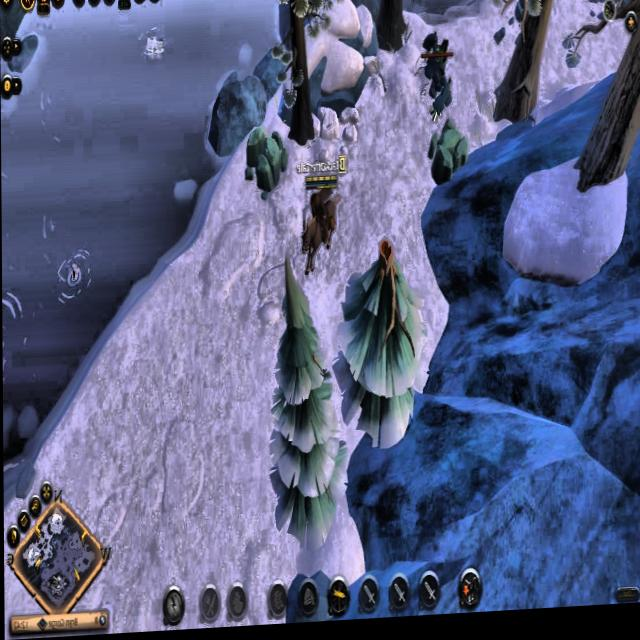sandstone: (420, 122, 473, 205), (243, 121, 289, 204)
